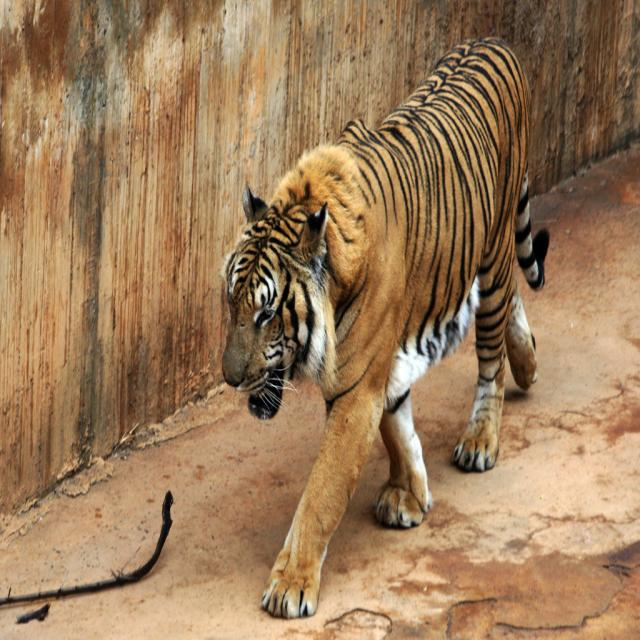Tiger: (222, 35, 551, 618)
